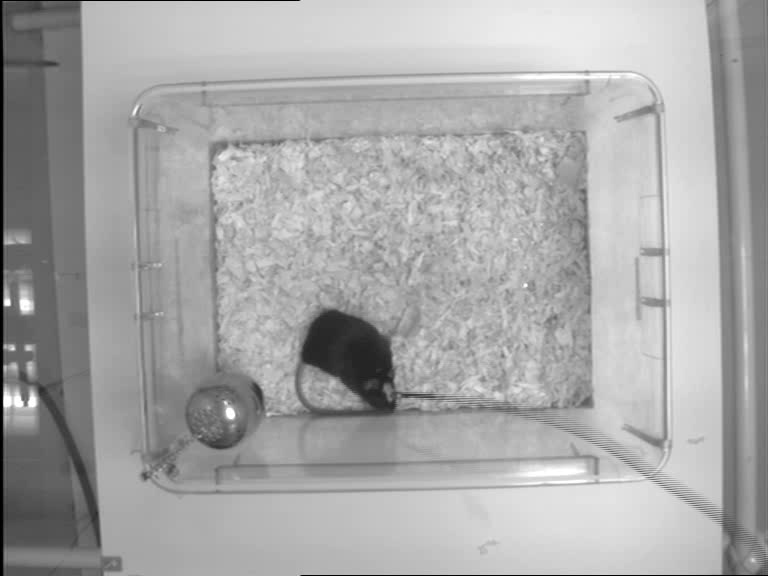mice: (296, 306, 406, 416)
